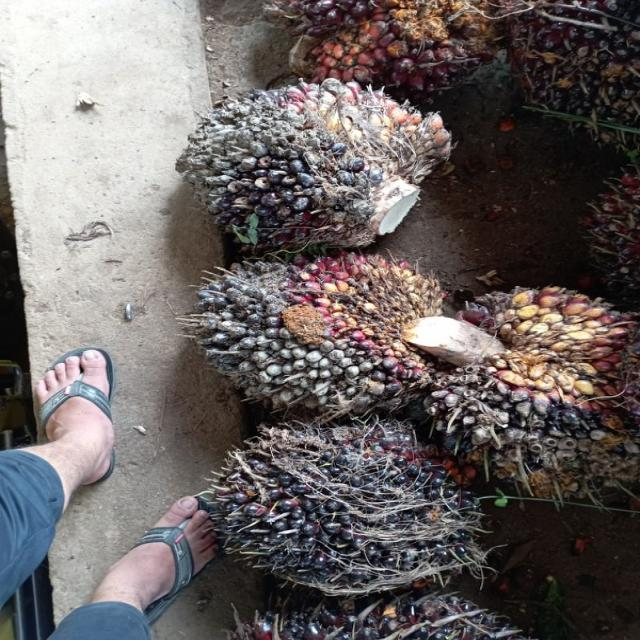fraksi 00: (166, 74, 462, 252), (416, 284, 640, 508), (195, 426, 503, 585), (189, 259, 440, 412)
